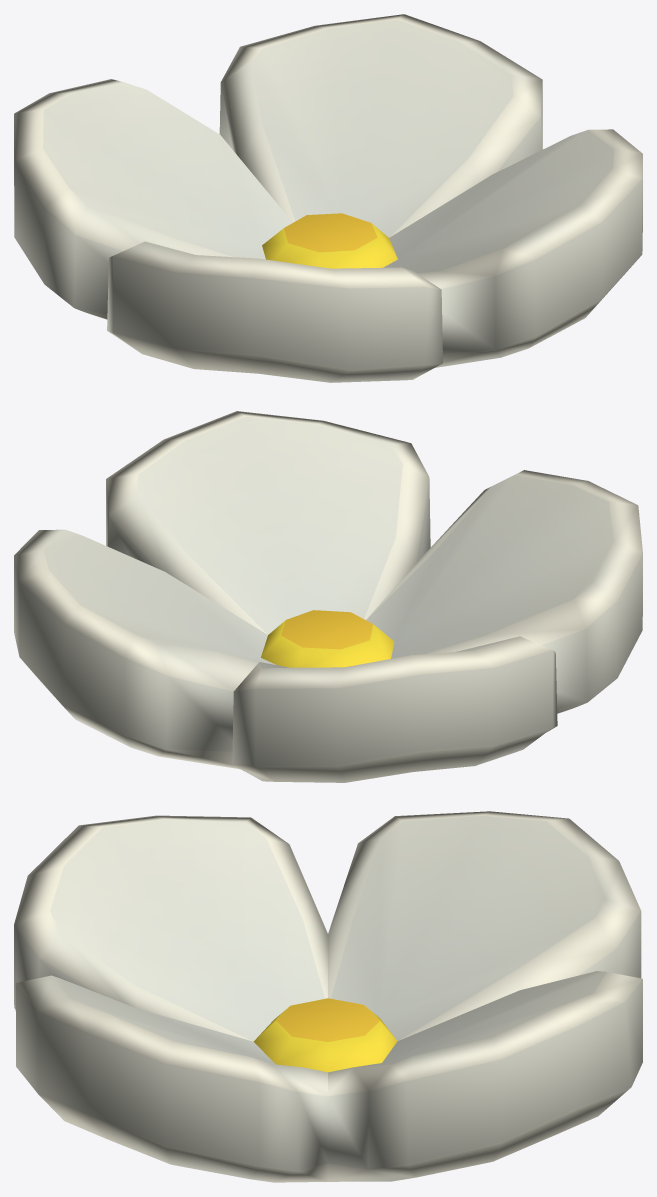
The model's file is flower_single_white_LOD_group.fbx.
3 views of the same model, one above another, from view 1: azimuth 30°, elevation 25°; view 2: azimuth 150°, elevation 25°; view 3: azimuth 270°, elevation 25° (orthographic). The views are drawn at different scales.
Visible parts, largest first — view 1: flower_single_white_LOD0; view 2: flower_single_white_LOD0; view 3: flower_single_white_LOD0.
Boxes of the visible parts, x1,y1,x2,y2 form: flower_single_white_LOD0: (14,14,642,382); flower_single_white_LOD0: (14,411,642,782); flower_single_white_LOD0: (14,811,642,1182).
Size of what is drawn, in the model's own units: 58.05 by 23.88 by 57.88.
1 material, 1 textured.
